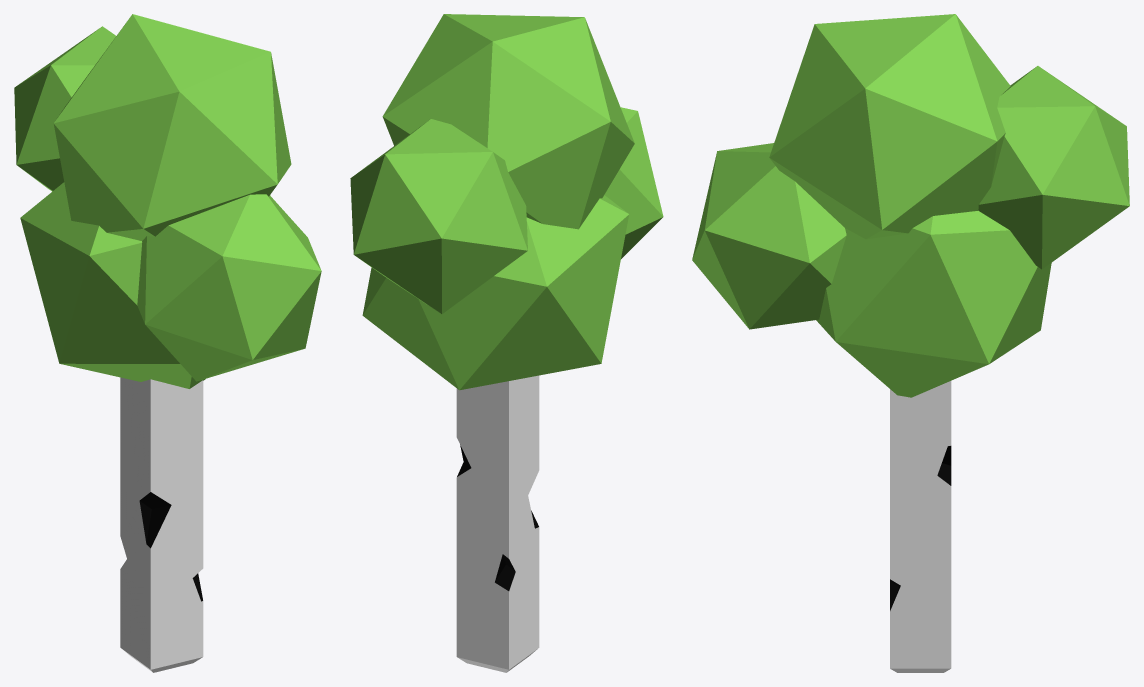
File: birch_tree.glb
3 renders of one model, left to right at view 1: azimuth 30°, elevation 25°; view 2: azimuth 150°, elevation 25°; view 3: azimuth 270°, elevation 25°, orthographic.
Parts seen in each view (by area): view 1: Icosphere.003, Cube; view 2: Icosphere.003, Cube; view 3: Icosphere.003, Cube.
Boxes of the visible parts, x1,y1,x2,y2 form: Icosphere.003: (14,14,321,388); Cube: (120,377,203,672); Icosphere.003: (350,14,663,390); Cube: (456,375,539,672); Icosphere.003: (692,14,1129,397); Cube: (890,381,951,672).
Size of the model in its own units: 2.11 by 5.79 by 3.57.
